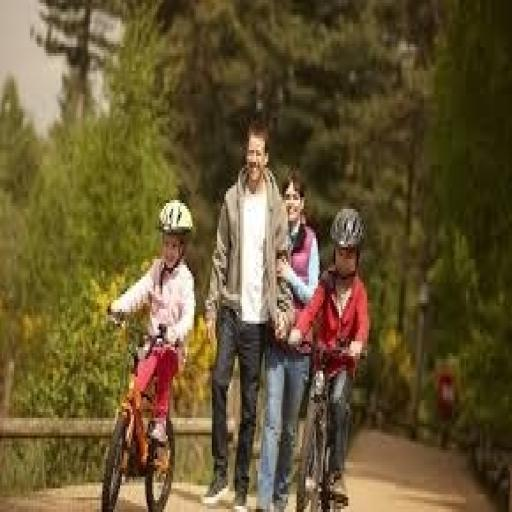cycling: (201, 118, 295, 509), (284, 203, 373, 509)
